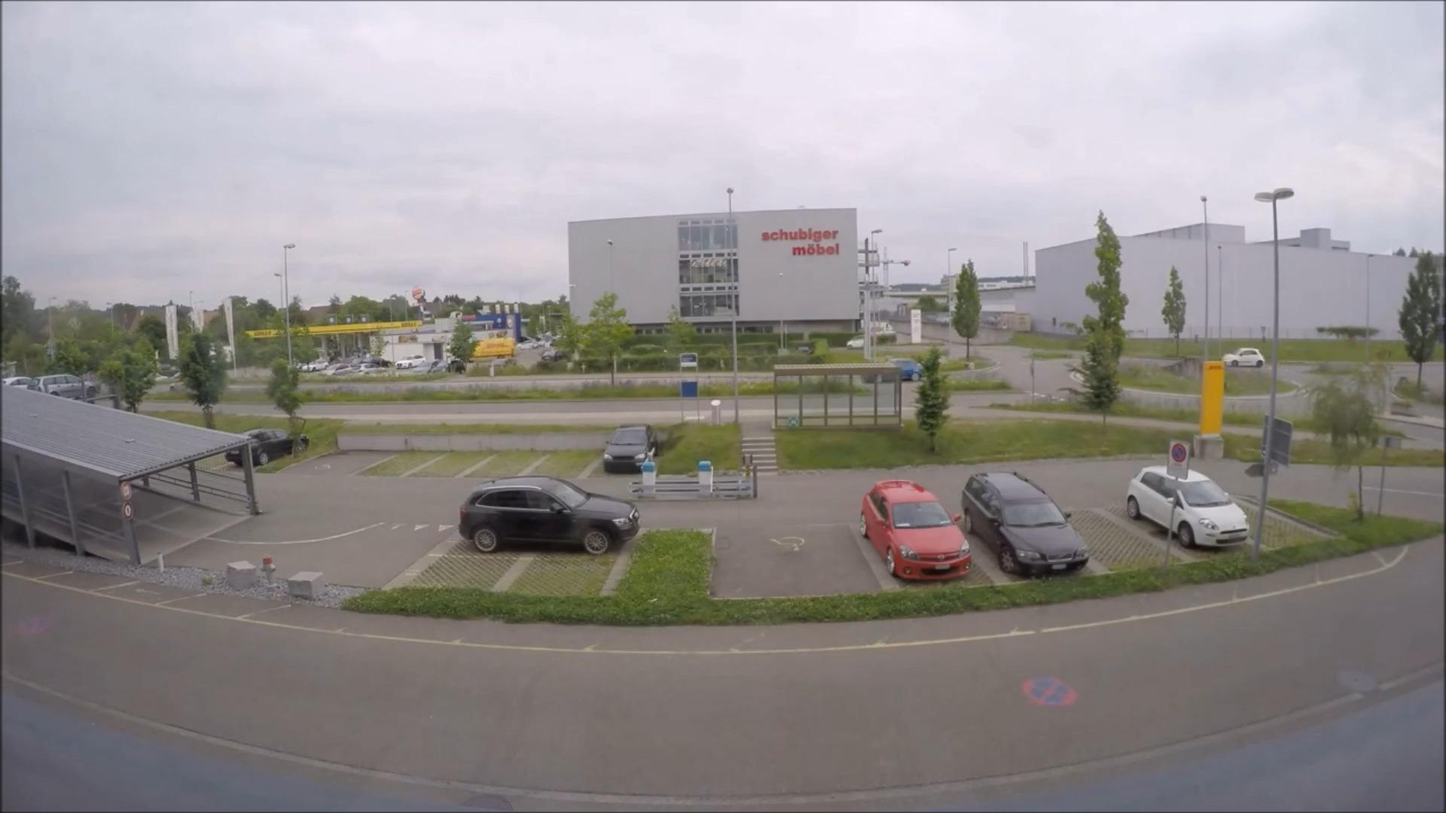occupied: (459, 475, 644, 557), (962, 469, 1092, 576), (860, 481, 970, 582), (1124, 464, 1250, 549), (224, 428, 308, 467), (601, 424, 659, 473), (33, 373, 90, 399), (874, 358, 923, 382), (1222, 348, 1265, 368), (357, 359, 392, 370), (2, 376, 34, 388)
